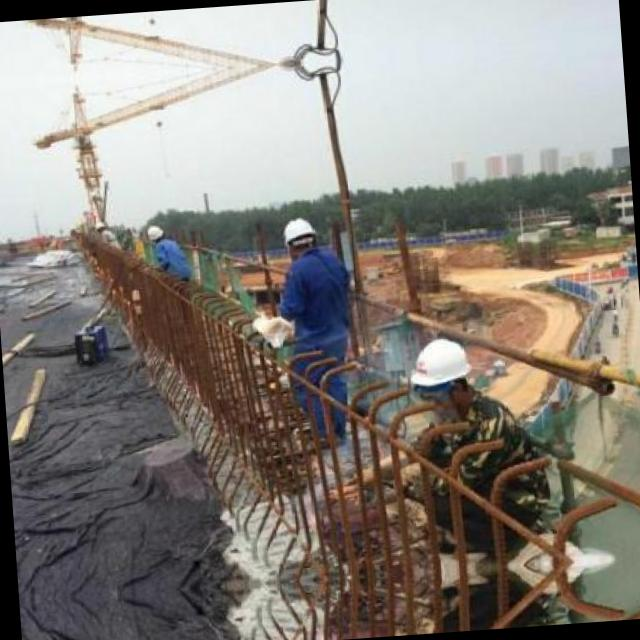helmet: (406, 335, 478, 411), (281, 216, 316, 254), (144, 222, 164, 242), (92, 218, 106, 230)
